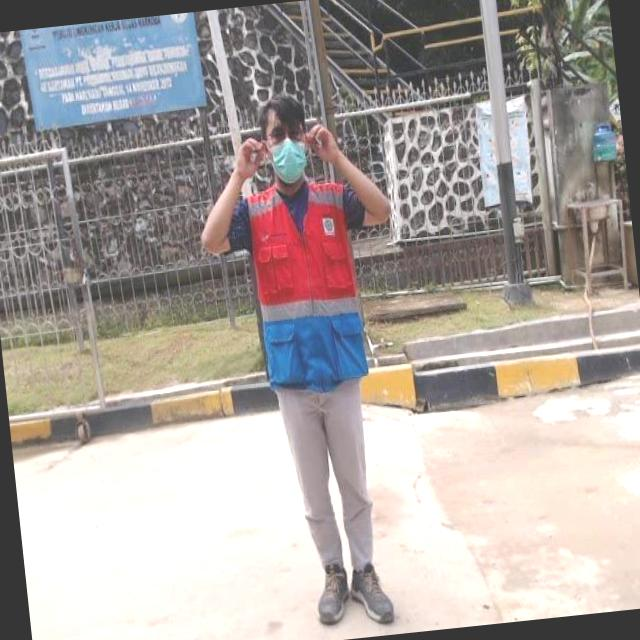boots: (348, 561, 398, 632), (311, 561, 355, 629)
no-gloves: (302, 118, 342, 164), (230, 132, 268, 178)
no-helmet: (248, 88, 314, 182)
vest: (242, 177, 371, 396)
